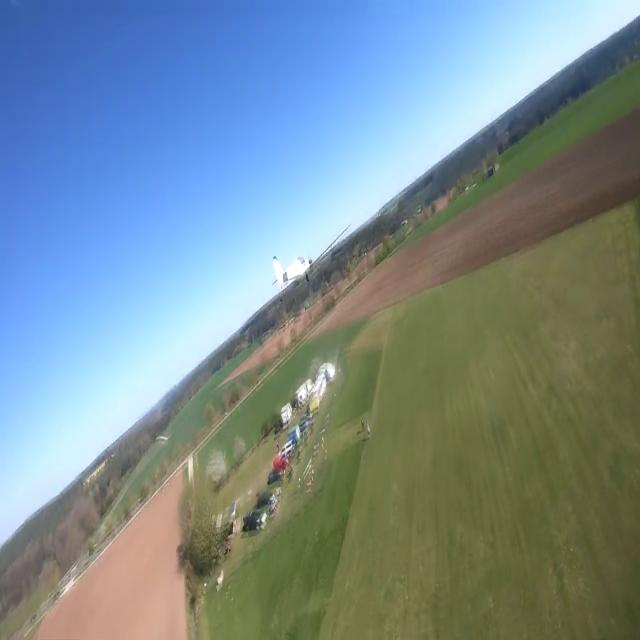iha: (289, 249, 319, 274)
